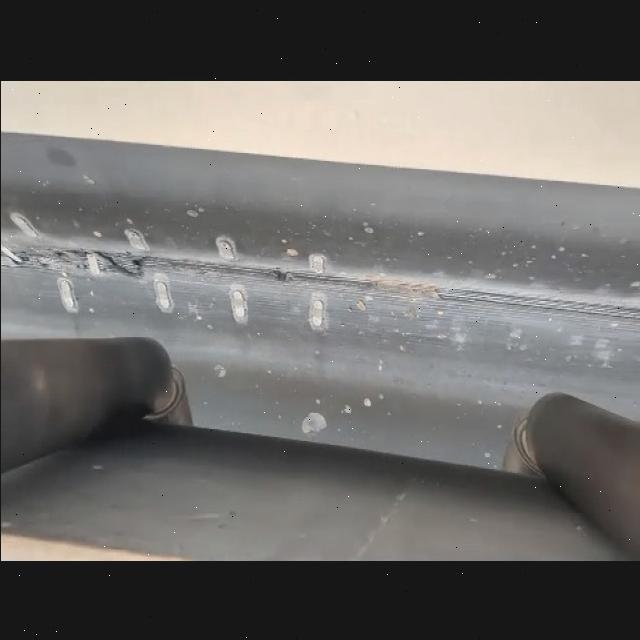Tear: (3, 248, 145, 282)
Wear: (0, 239, 640, 326)
